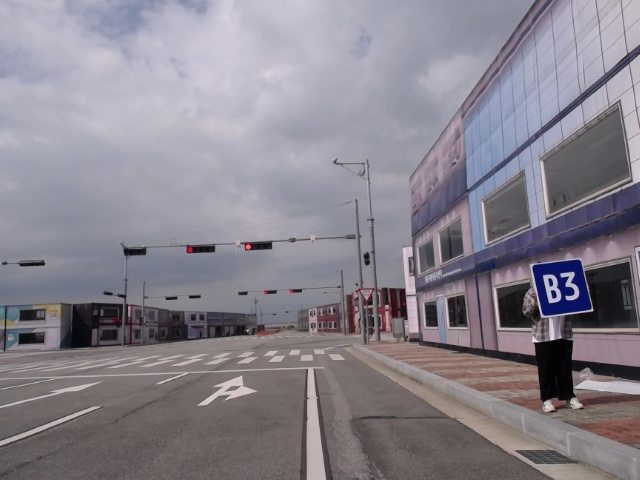delivery_b3: (529, 258, 593, 317)
red_4: (184, 242, 217, 255), (243, 241, 275, 251), (261, 288, 280, 296), (288, 287, 305, 295)
